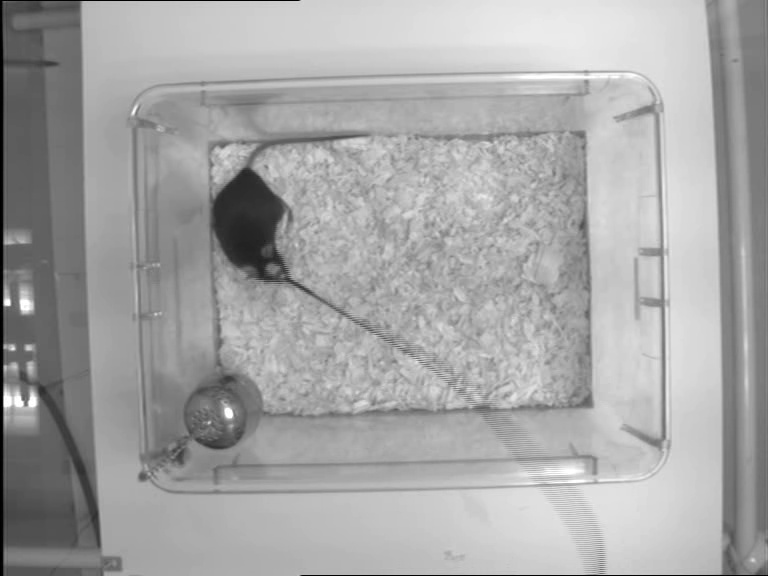mice: (211, 131, 372, 289)
